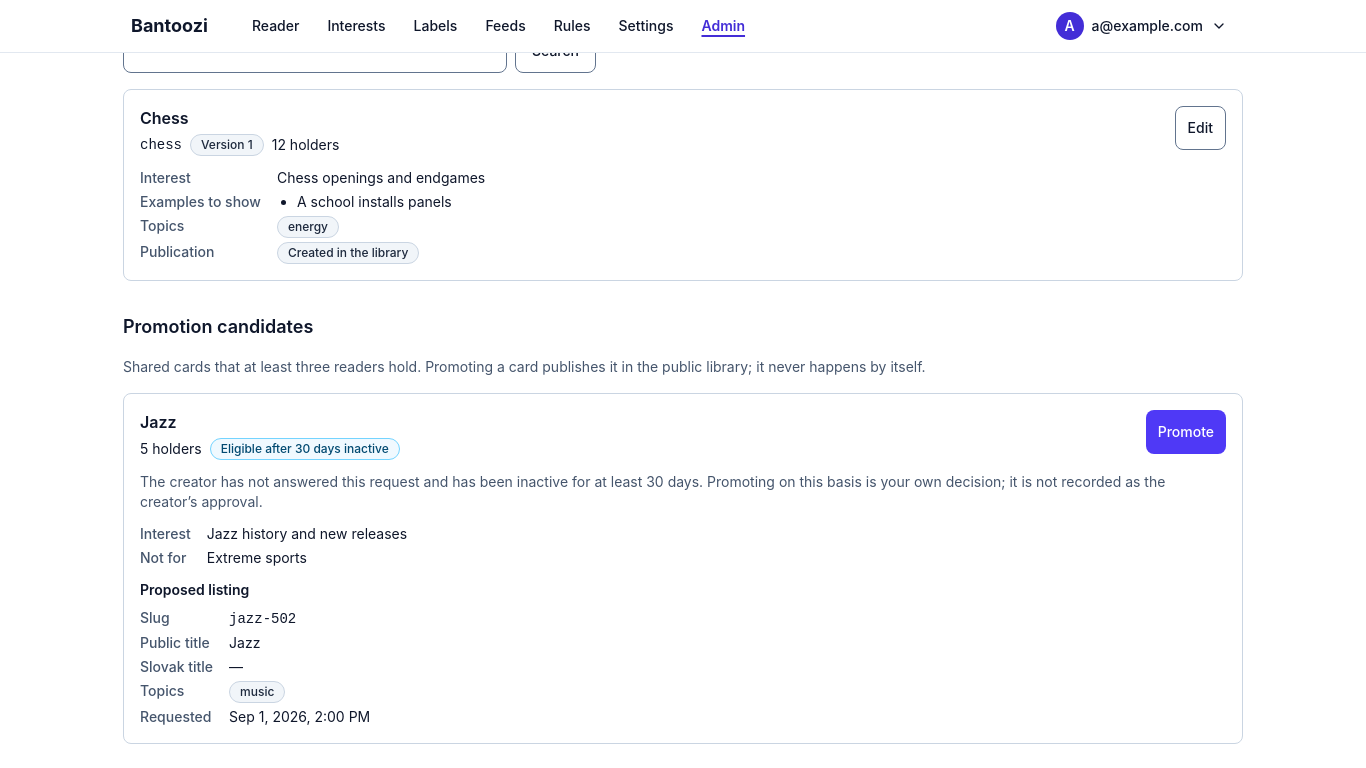
Test case: admin library (spec 09 §8) › promoting › names the inactivity basis in the confirmation and never words it as approval
(page scrolled)
expect the heading "Promotion candidates" is shown: met, box [123, 316, 313, 337]
Click the button with aria-label "Promote Jazz" at (1186, 432), box [1146, 410, 1226, 454]
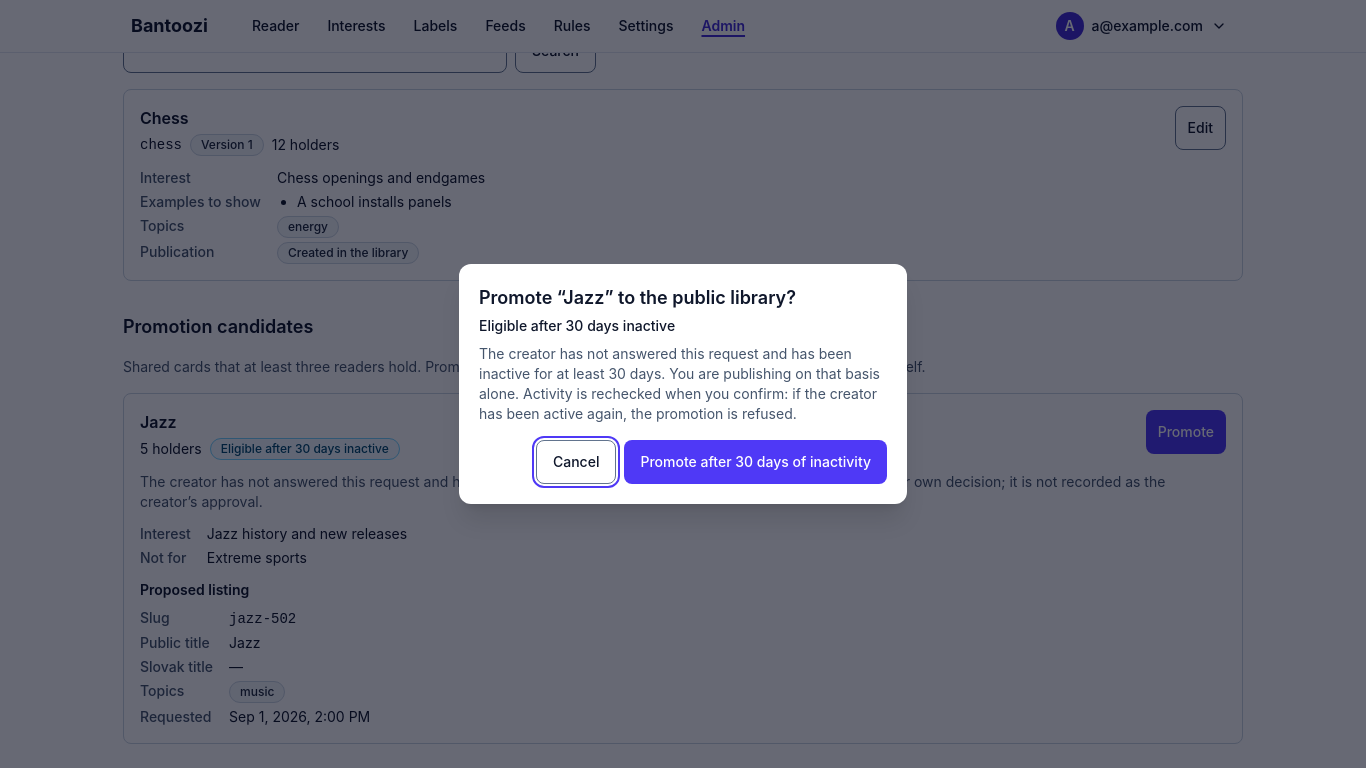
expect the text "Eligible after 30 days inactive" is shown: met, box [479, 317, 675, 334]
expect the text "Activity is rechecked when you confirm" is shown: met, box [479, 345, 880, 422]
Click the button "Promote after 30 days of inactivity" at (756, 462), box [624, 440, 887, 484]
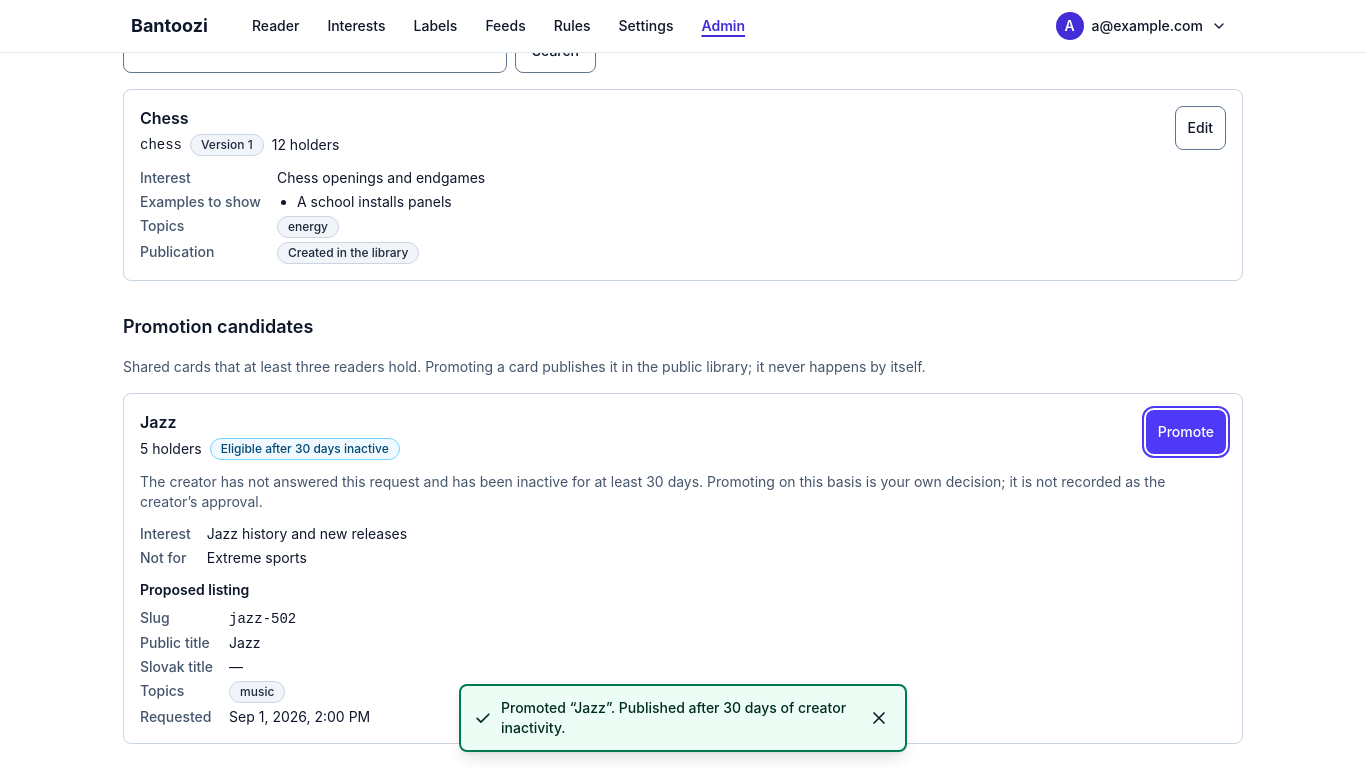
expect the text "Promoted “Jazz”. Published after 30 days of creator inactivity." is shown: met, box [501, 690, 849, 746]
expect the dialog is gone: met
